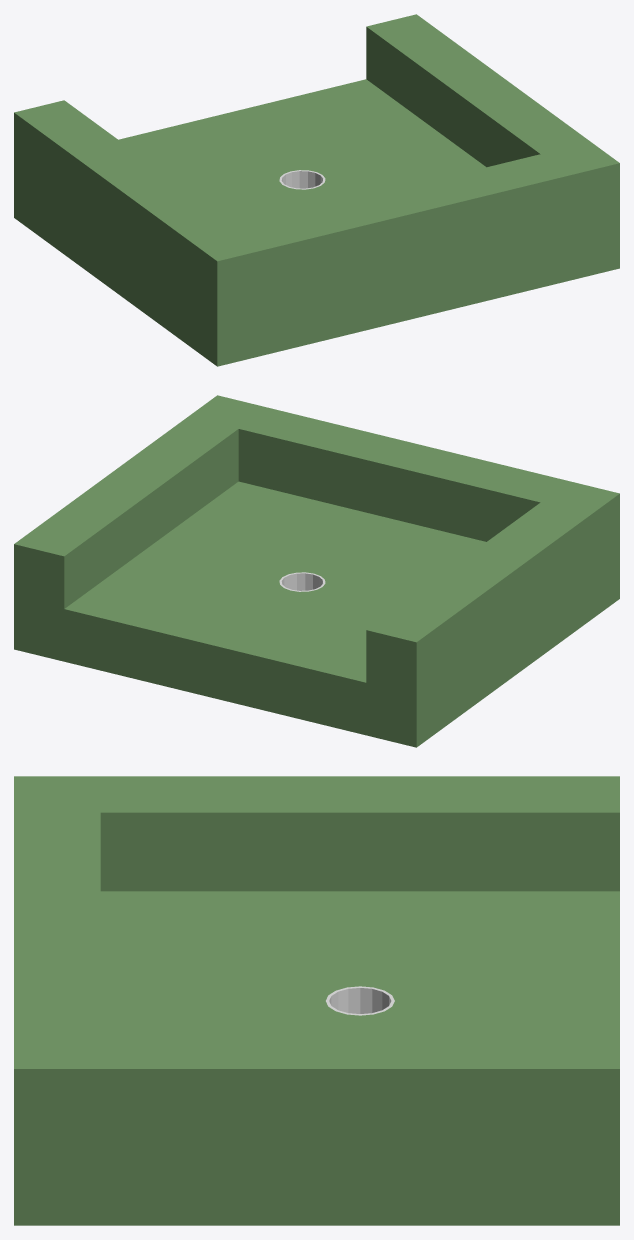
File: Dead End with Hole.fbx
3 views of the same model, one above another, from view 1: azimuth 30°, elevation 25°; view 2: azimuth 150°, elevation 25°; view 3: azimuth 270°, elevation 25° (orthographic). The views are drawn at different scales.
Visible parts, largest first — view 1: Border_3, Path, Border_2, Border_1, Hole; view 2: Path, Border_2, Border_3, Border_1, Hole; view 3: Border_1, Path, Border_2, Border_3, Hole.
Boxes of the visible parts, <box> form: Border_3: <box>188,142,619,366</box>; Path: <box>118,79,485,227</box>; Border_2: <box>14,100,238,344</box>; Border_1: <box>366,14,590,167</box>; Hole: <box>279,170,325,189</box>; Path: <box>64,481,485,735</box>; Border_2: <box>366,502,590,747</box>; Border_3: <box>188,395,619,619</box>; Border_1: <box>14,416,238,661</box>; Hole: <box>279,572,325,591</box>; Border_1: <box>100,1032,619,1225</box>; Path: <box>100,891,619,1032</box>; Border_2: <box>100,776,619,891</box>; Border_3: <box>14,776,100,1225</box>; Hole: <box>326,986,394,1015</box>.
Bounding box in the file's own units: 800 × 200 × 700.
